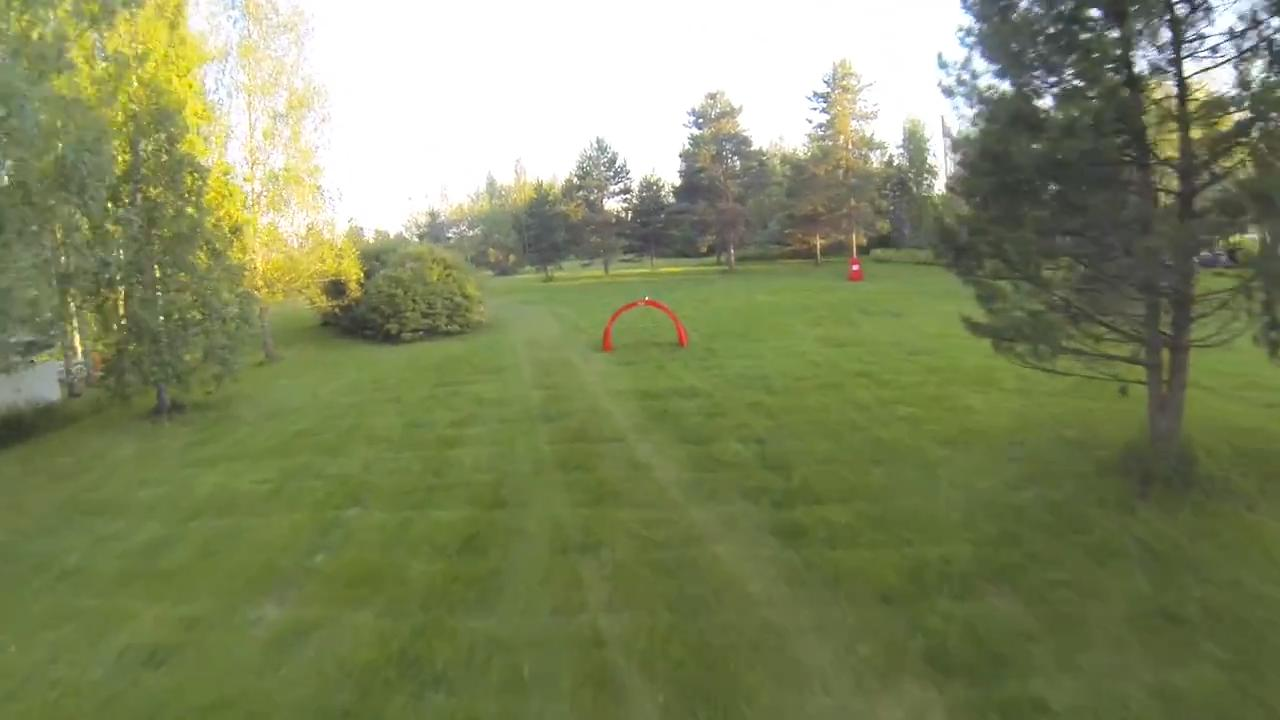gate: (603, 297, 690, 353)
